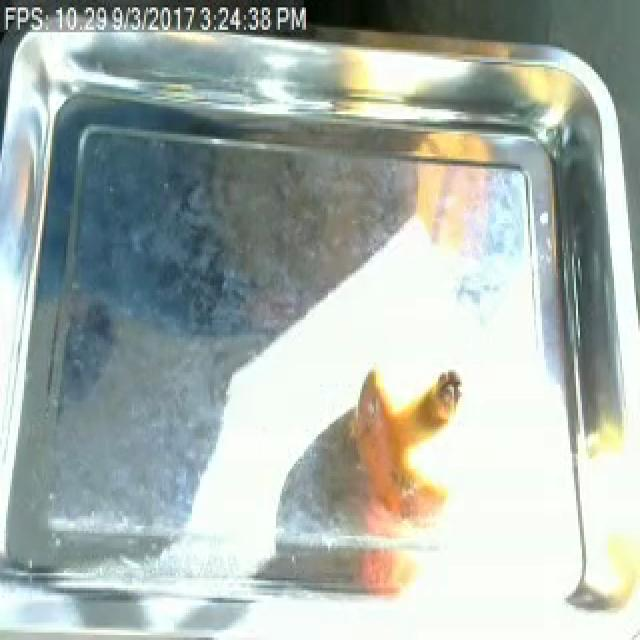fruit: (322, 332, 502, 534)
